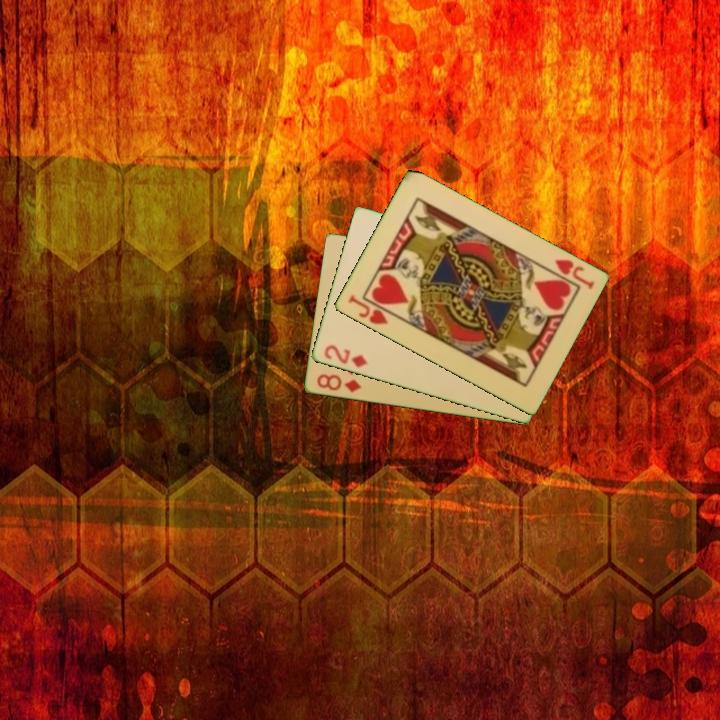2d: (320, 341, 370, 371)
8d: (313, 371, 364, 396)
Jh: (344, 291, 390, 328), (551, 256, 597, 293)
